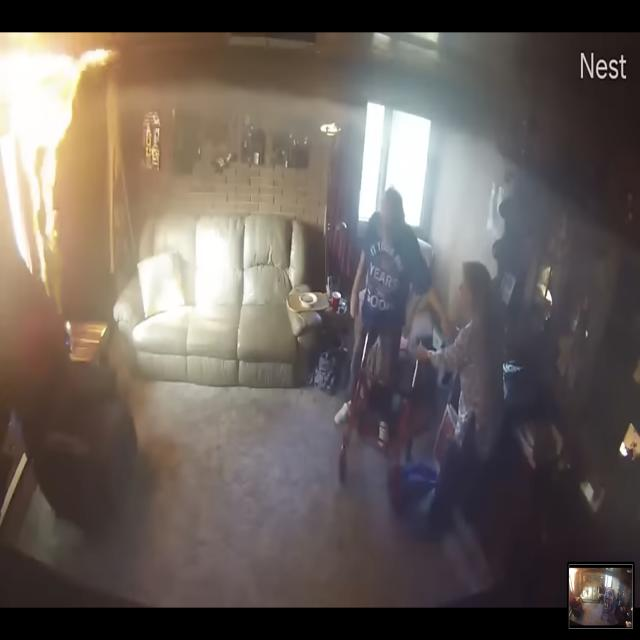Fogo: (4, 36, 140, 366)
